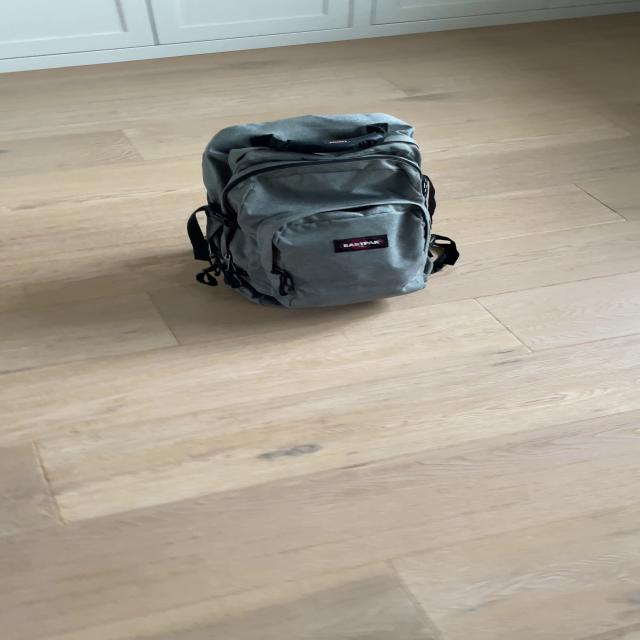backpack: (178, 103, 462, 315)
